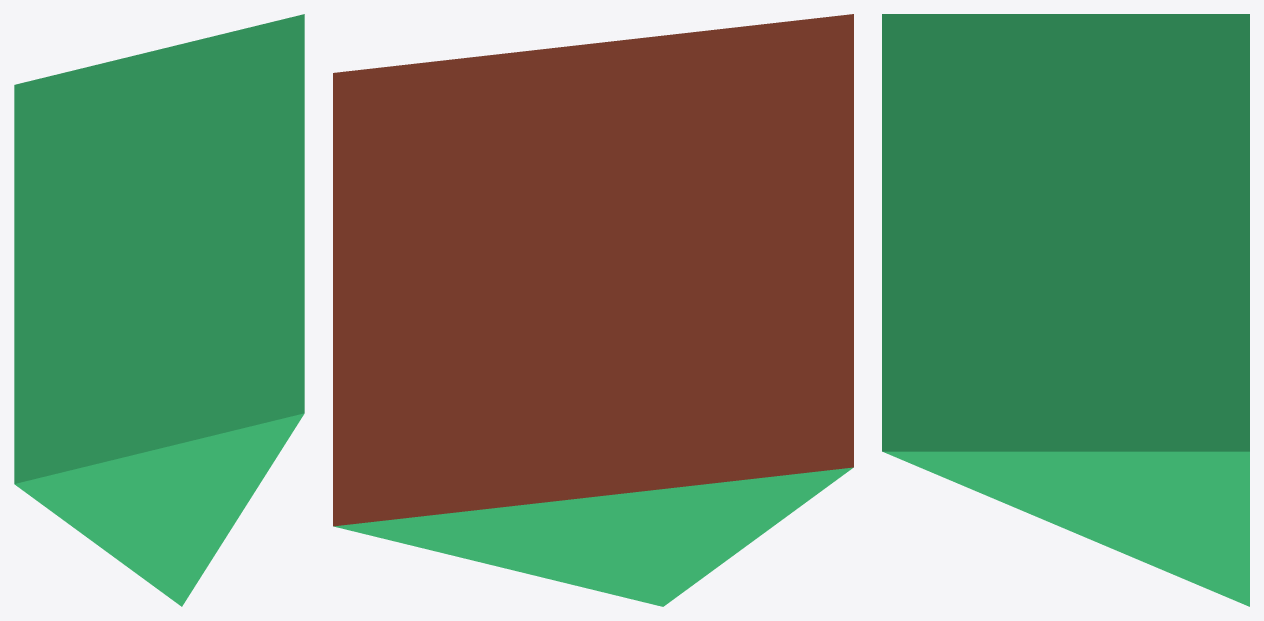
File: r3c3_border_green.gltf
3 views of the same model, side by side, from view 1: azimuth 30°, elevation 25°; view 2: azimuth 150°, elevation 25°; view 3: azimuth 270°, elevation 25° (orthographic). The views are drawn at different scales.
Parts seen in each view (by area): view 1: r3c3_border_green; view 2: r3c3_border_green; view 3: r3c3_border_green.
Boxes of the visible parts, bbox=[...] form: r3c3_border_green: bbox=[14, 14, 304, 606]; r3c3_border_green: bbox=[333, 14, 853, 606]; r3c3_border_green: bbox=[882, 14, 1249, 606].
Bounding box in the file's own units: 1.6 × 2.1 × 1.6.
1 material, 1 textured.
